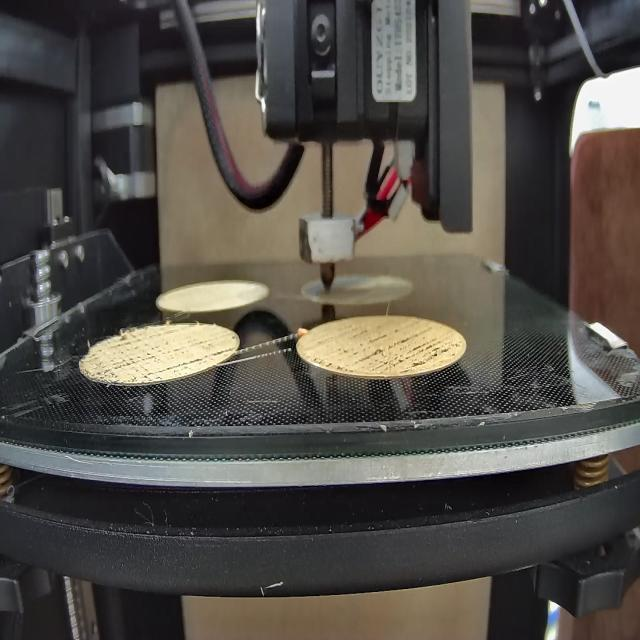under_extrusion: (309, 328, 462, 368), (87, 326, 204, 376), (207, 334, 237, 360)
